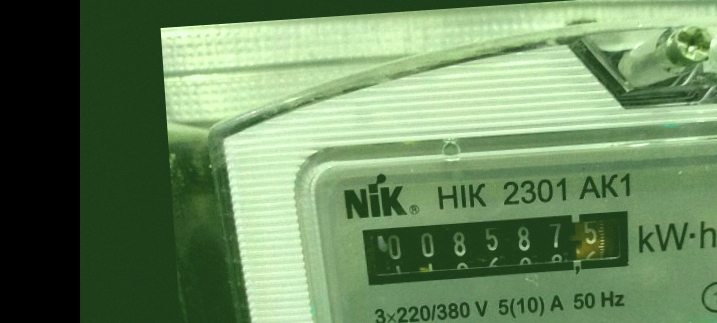0: (385, 230, 404, 260), (419, 229, 438, 258)
5: (582, 217, 601, 247), (482, 223, 501, 252)
7: (546, 218, 565, 249)
8: (514, 221, 533, 252), (451, 228, 469, 257)
screen: (343, 194, 650, 297)
